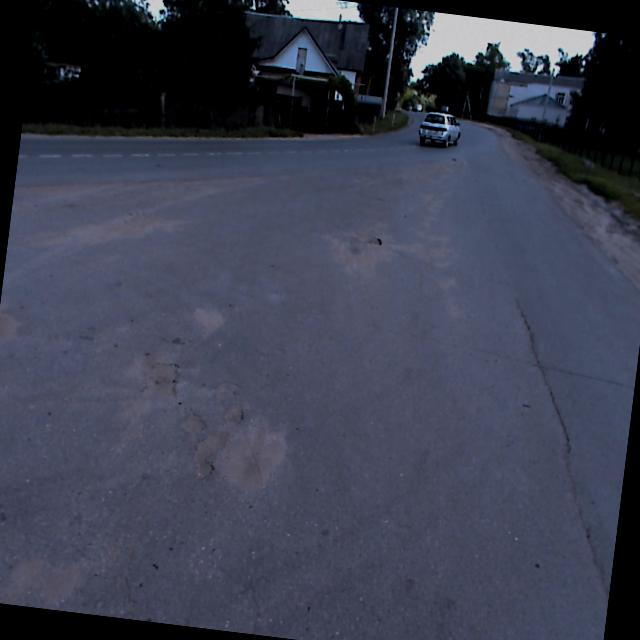road: (0, 110, 640, 640)
